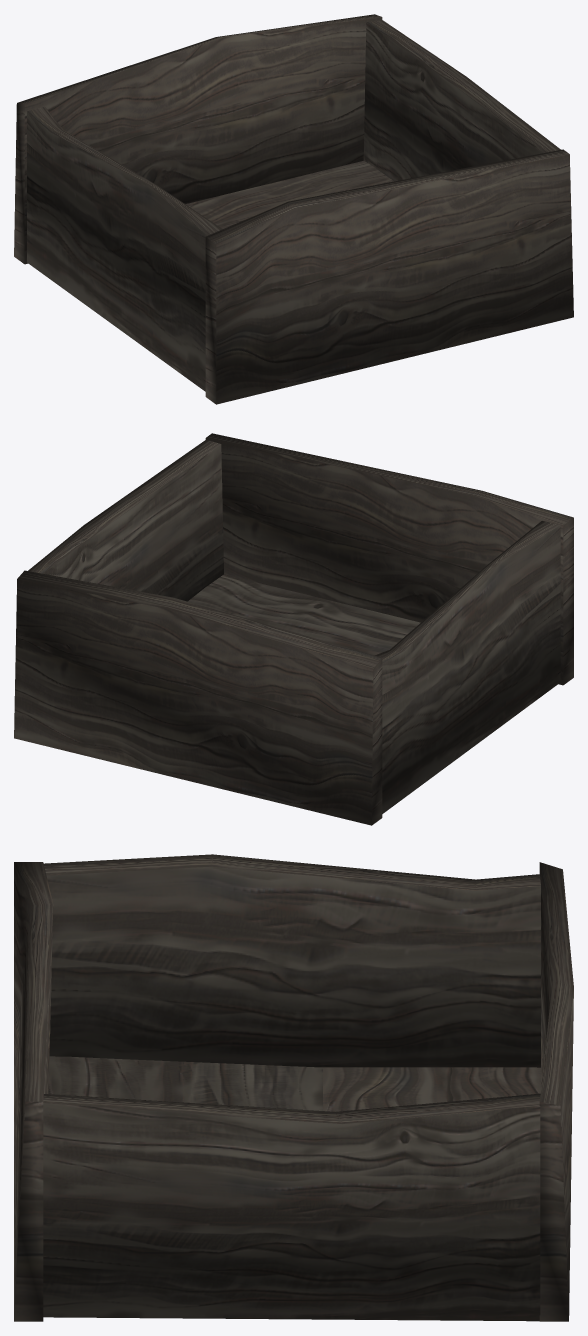
Rendered from WoodChest.fbx.
The picture shows the model from 3 angles, top to bottom: view 1: azimuth 30°, elevation 25°; view 2: azimuth 150°, elevation 25°; view 3: azimuth 270°, elevation 25°; orthographic projection. The views are drawn at different scales.
Visible parts, largest first — view 1: WoodChest; view 2: WoodChest; view 3: WoodChest.
Part boxes in pixels (bbox=[...]): WoodChest: bbox=[14, 14, 573, 404]; WoodChest: bbox=[14, 433, 573, 825]; WoodChest: bbox=[14, 854, 573, 1321].
Size of the model in its own units: 1.39 by 0.6244 by 1.33.
